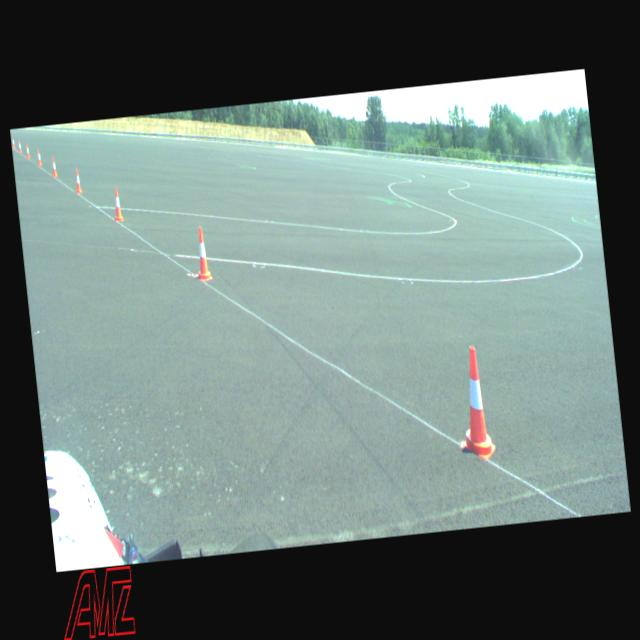orange_cone: (453, 345, 496, 462), (192, 226, 212, 282), (112, 187, 123, 221), (73, 168, 82, 192), (51, 157, 58, 177), (36, 150, 42, 166), (24, 144, 30, 158), (17, 140, 21, 152), (11, 136, 15, 148)
